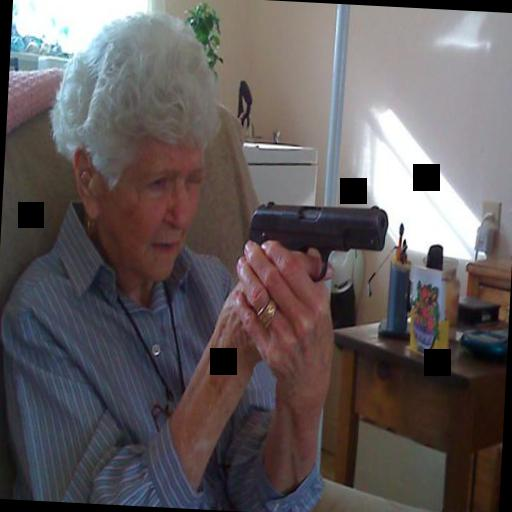Handgun: (233, 196, 390, 318)
